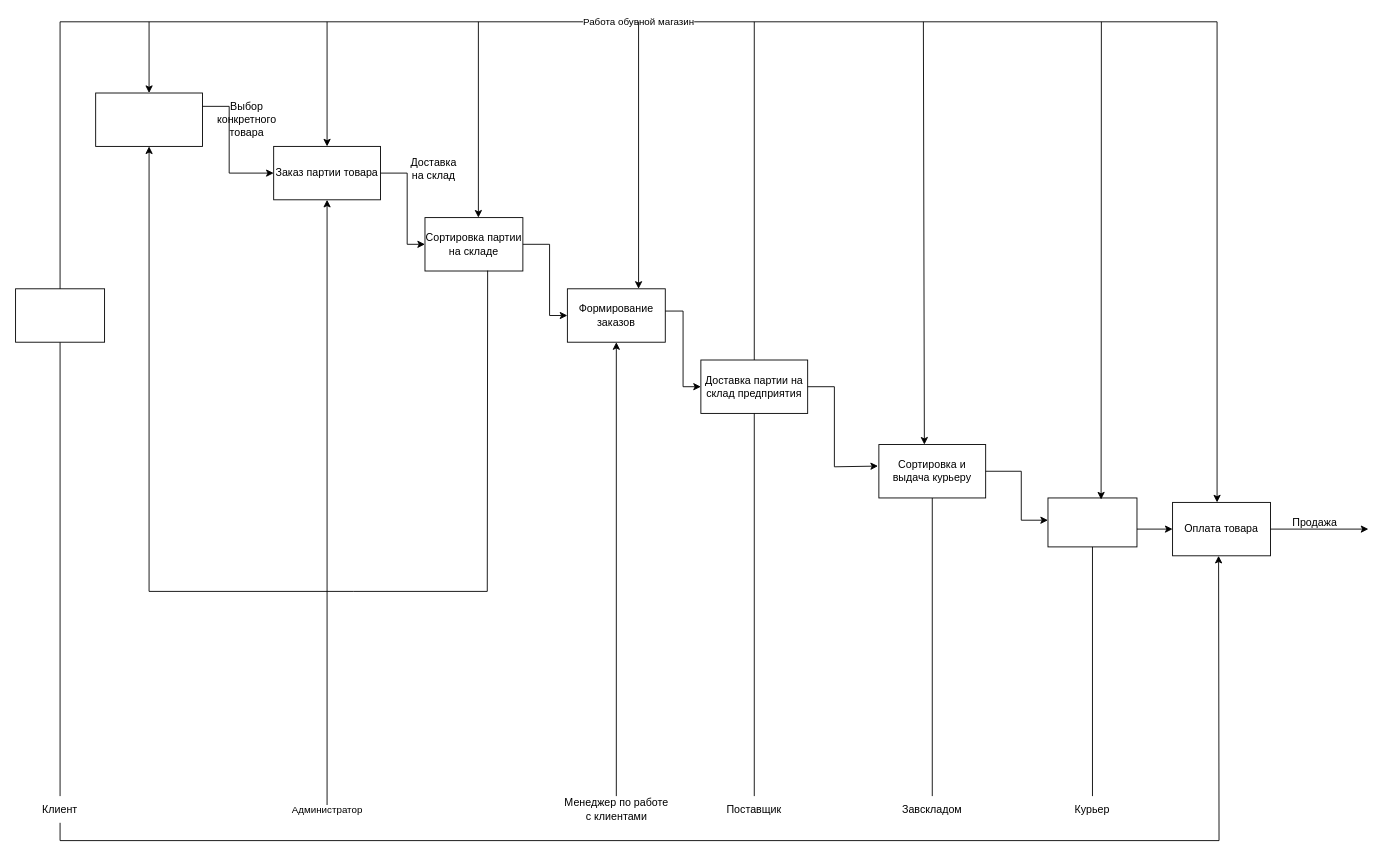
The diagram is 1391 pixels wide and 863 high, and some of its shapes have lost their labels. Here are the shapes that lost their labels. From the top down, the centre of each, then its label:
At pixel 148 119: "Просмотр сведений об актуальных моделях на следующий месяц".
At pixel 60 315: "Заказ обуви".
At pixel 1092 522: "Доставка до места получения".
